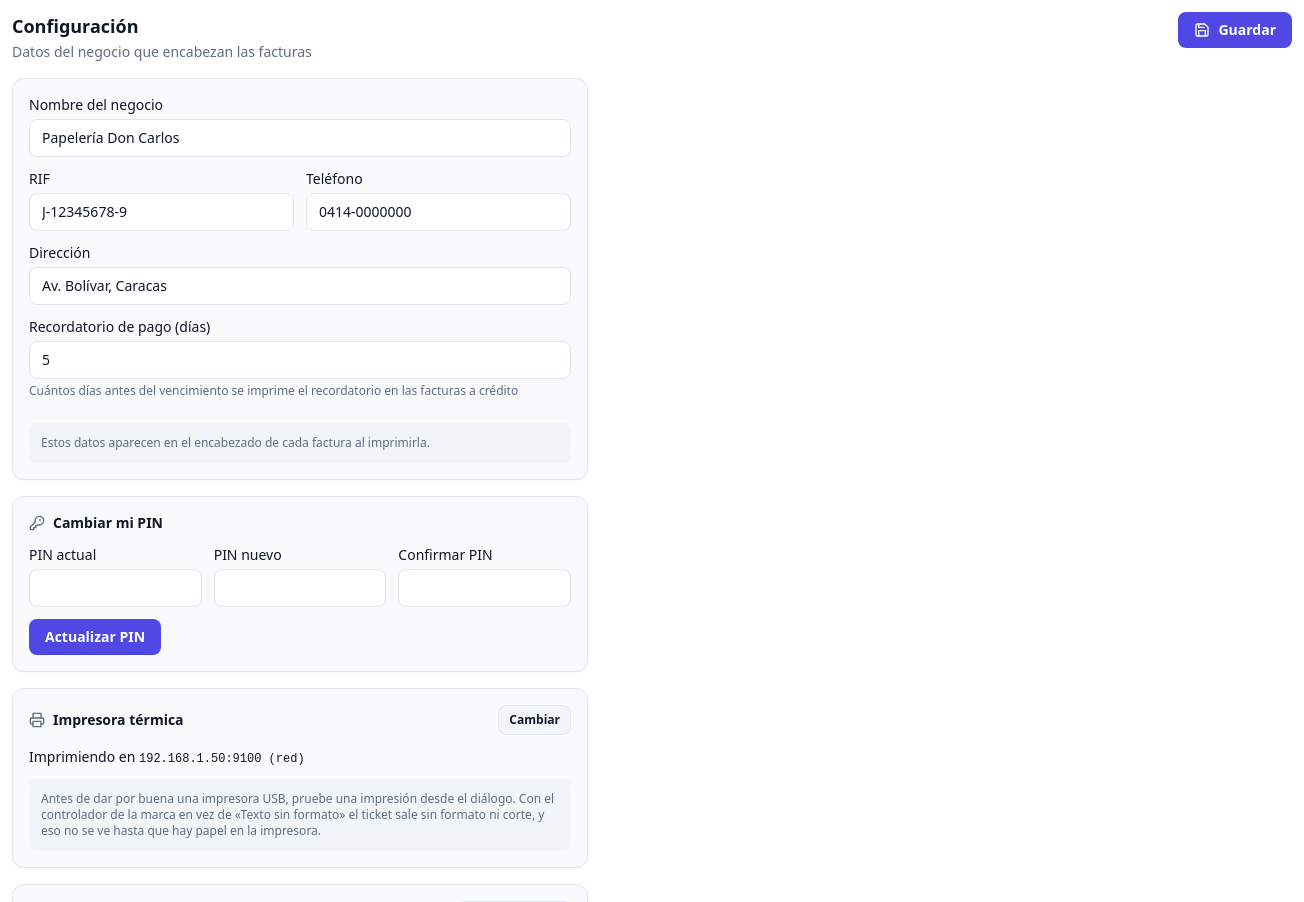
ConfiguracionPage › carga los datos del negocio y los guarda
The image size is (1304, 902).
Expected: the field labelled "RIF" holds "J-12345678-9", [29,193,294,231]
In the field labelled "Nombre del negocio": [300, 138] box [29,119,571,157], type "Papelería Don Carlos C.A."
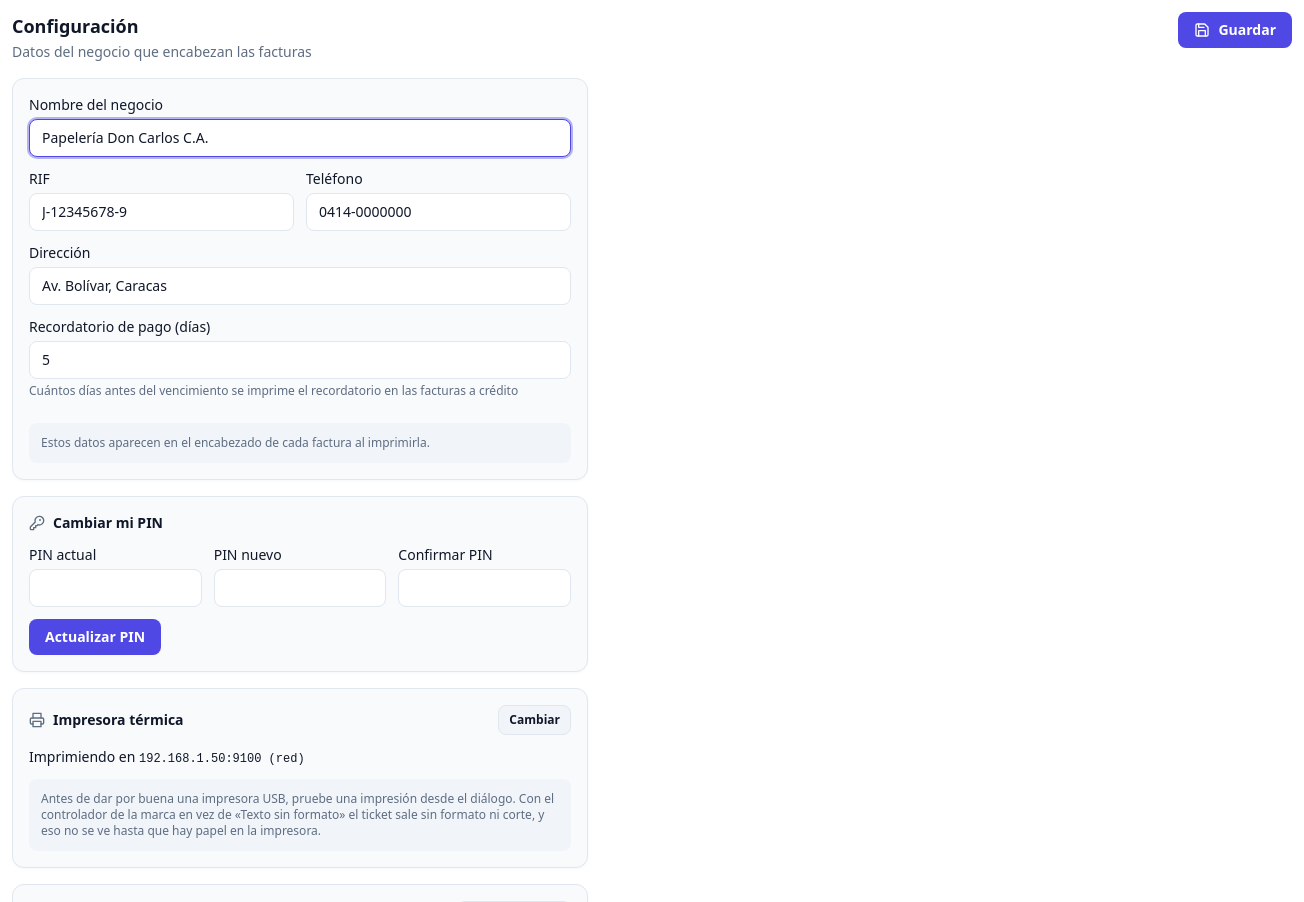
Click the button "Guardar": [1235, 30] box [1178,12,1292,48]
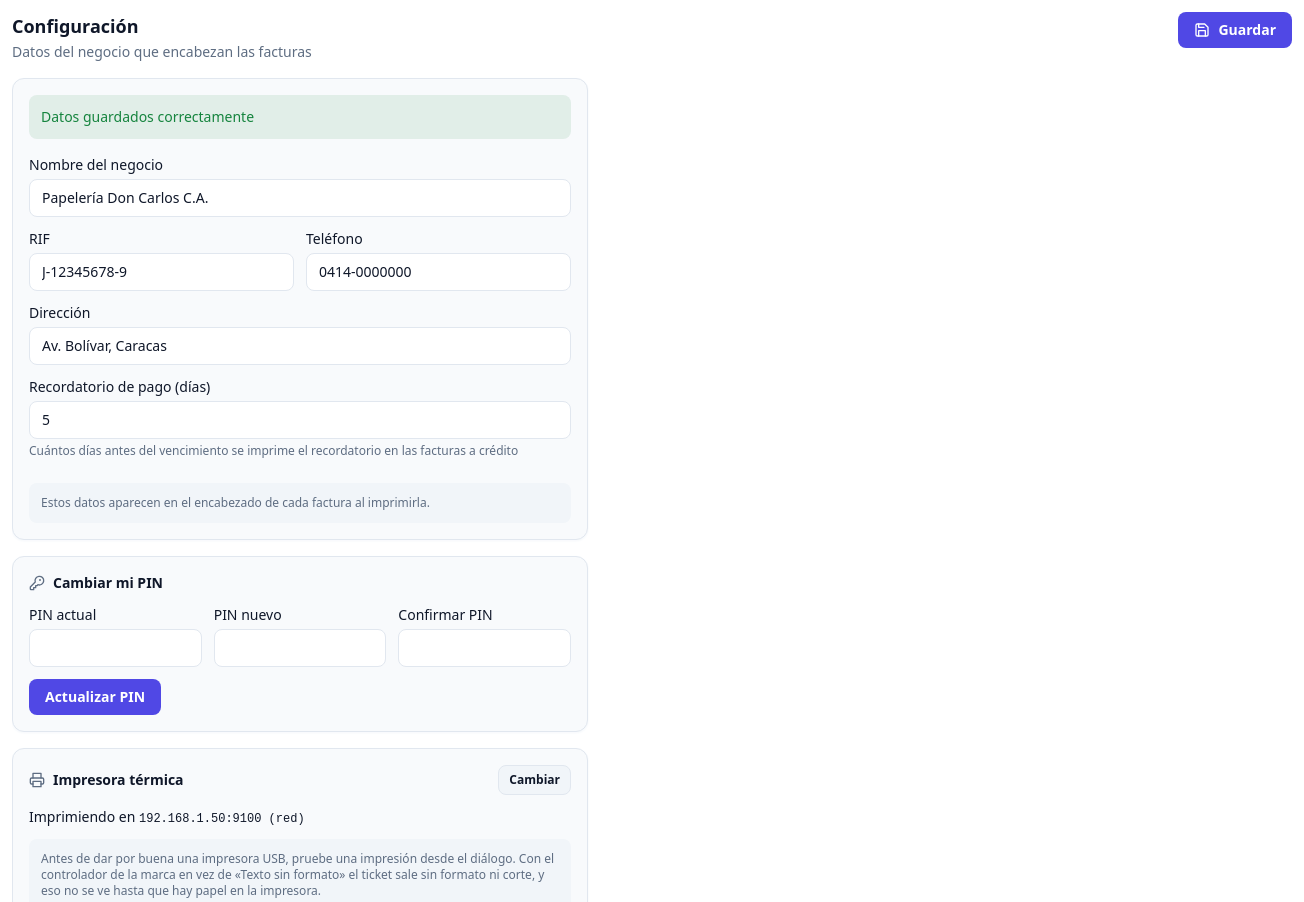
Expected: the text "Datos guardados correctamente" is shown, [29,95,571,139]
